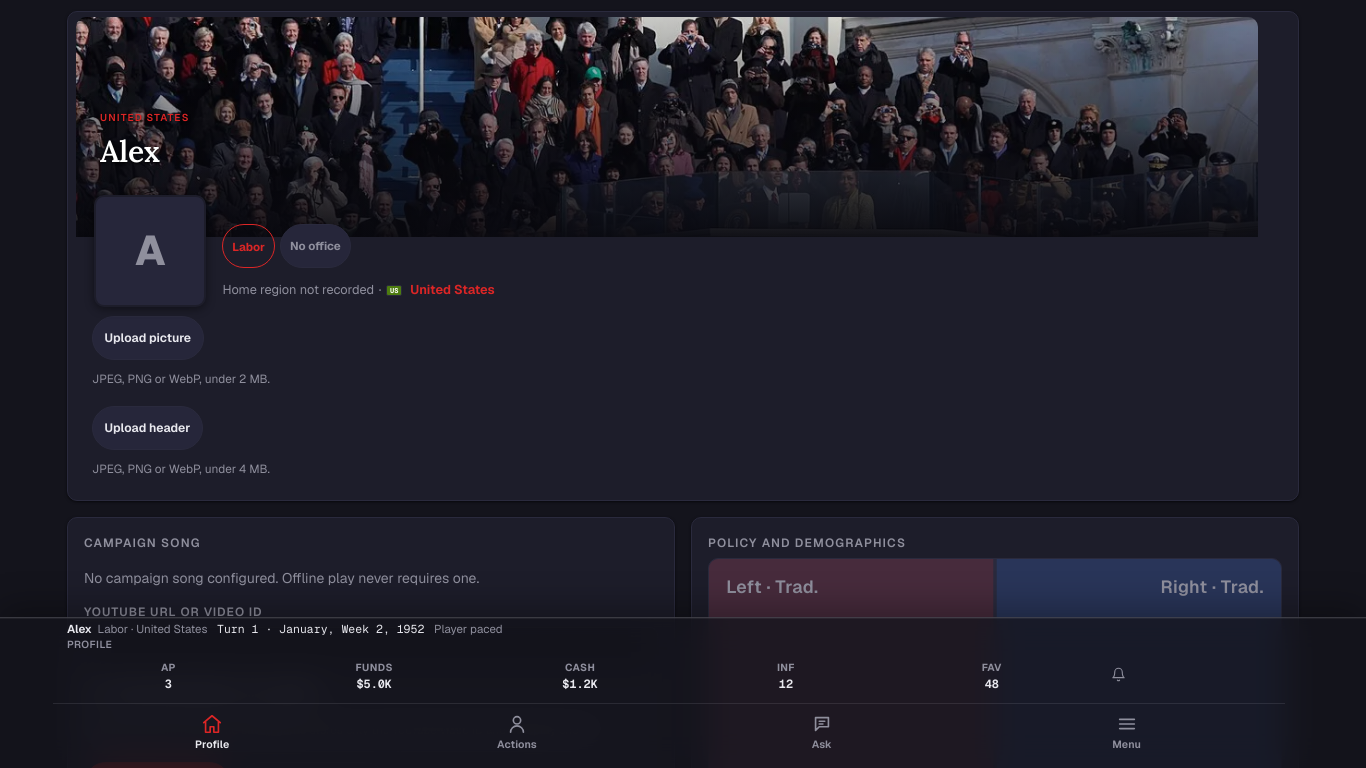
Test case: cabinet screen gating › keeps the drawer row on pre-signal projections
Click the button "Menu". click: {"x": 1127, "y": 734}
box: [974,706,1279,762]
(page scrolled)
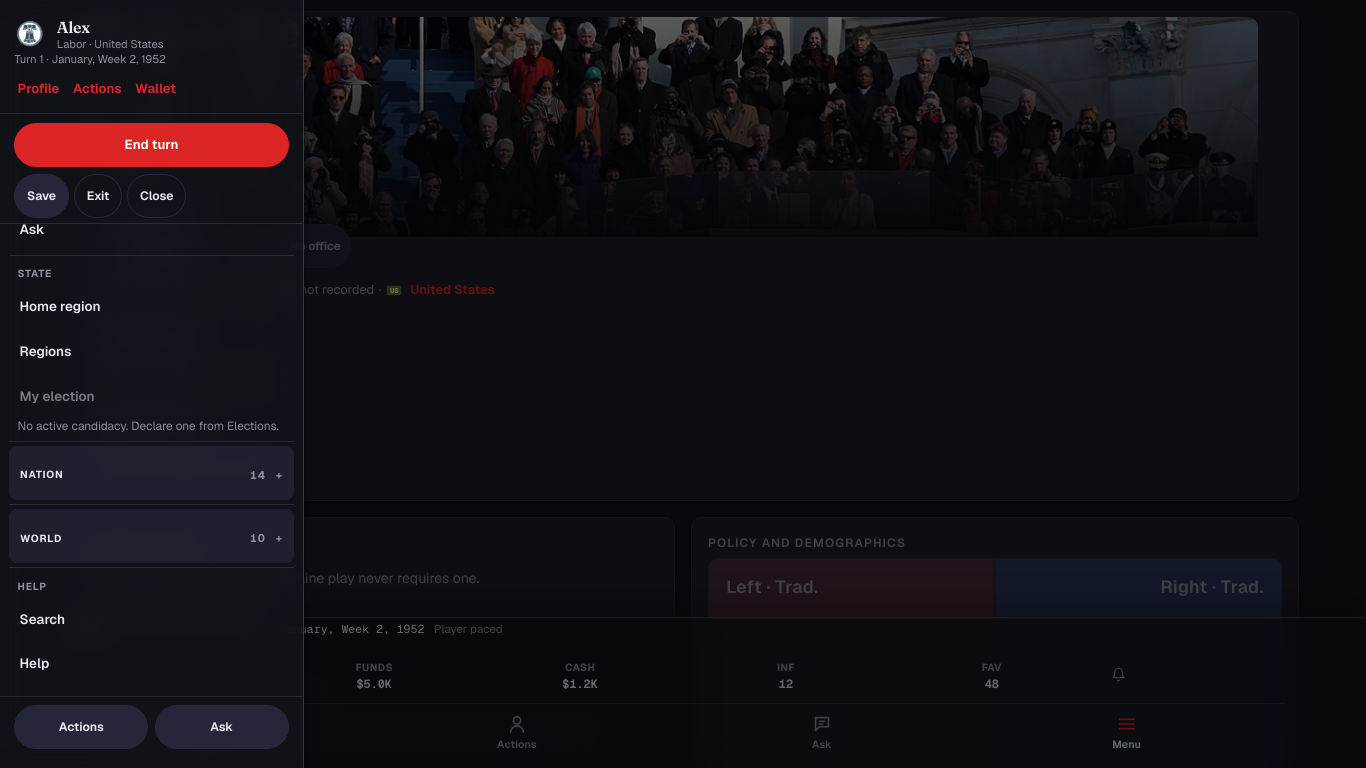
Click the button "Nation 14 +". click: {"x": 42, "y": 475}
box: [9,446,294,500]
(page scrolled)
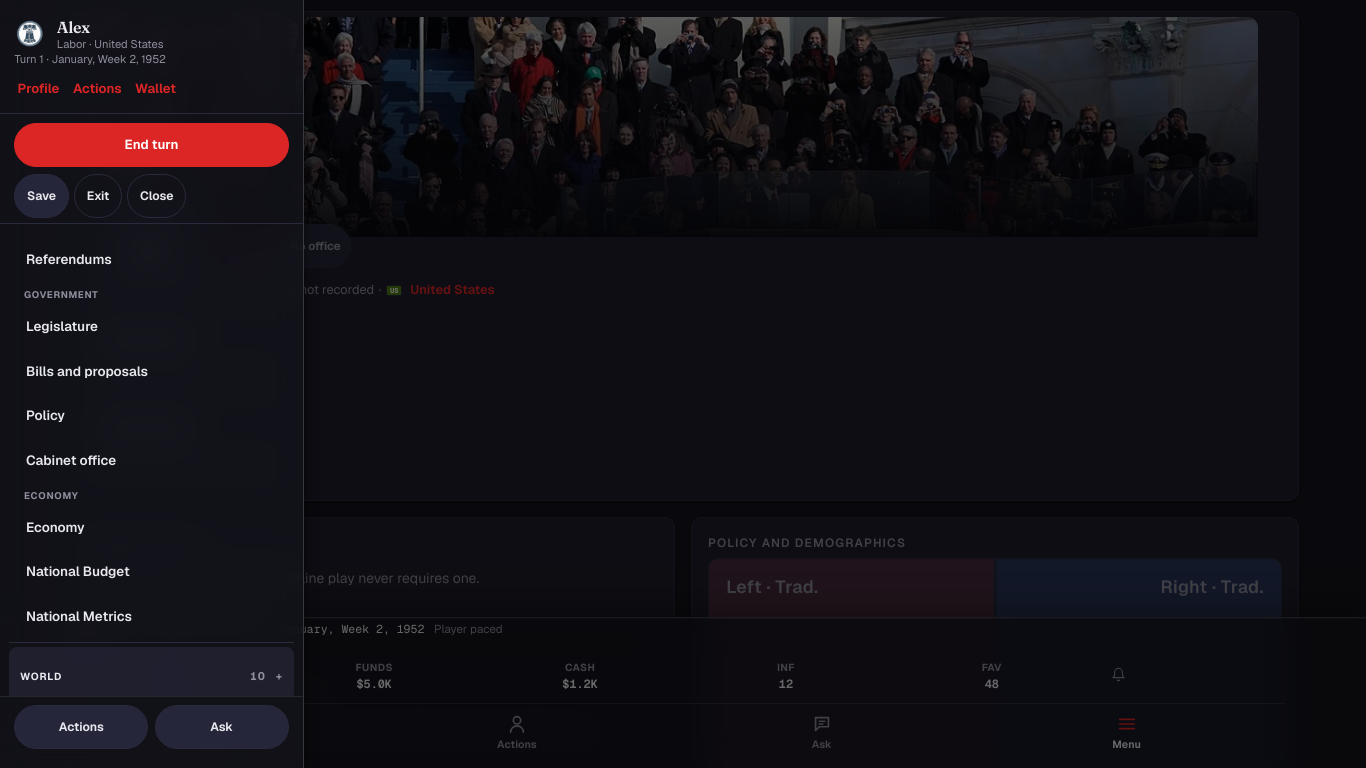
Expected: the button "Cabinet office" is shown, [9,438,294,482]
